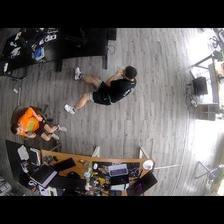fall: (65, 64, 138, 115)
normal: (11, 107, 67, 142)
